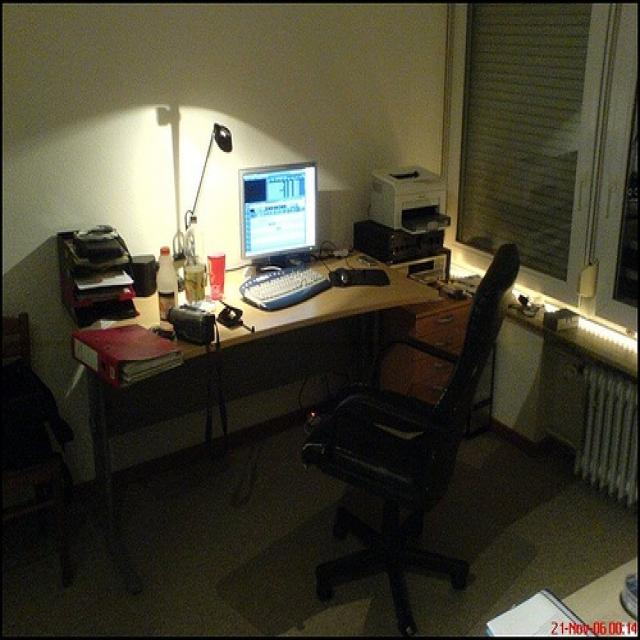chair: (300, 241, 526, 635), (0, 307, 79, 587)
tvmonitor: (233, 155, 319, 270)
